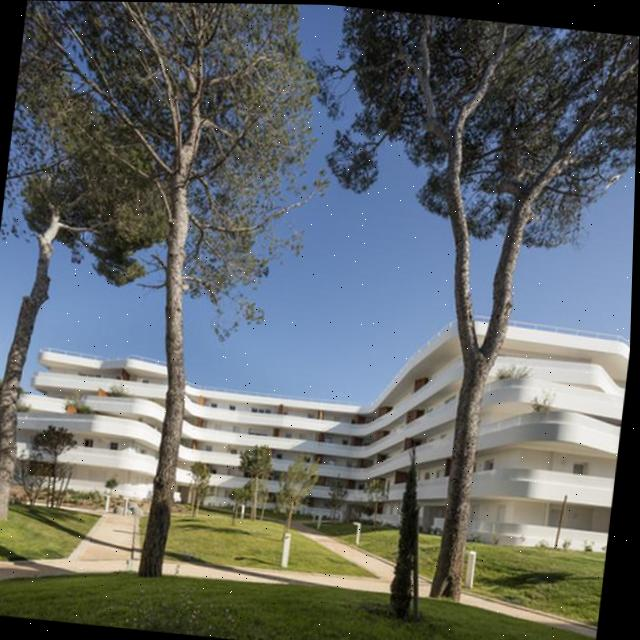building: (0, 266, 632, 554)
